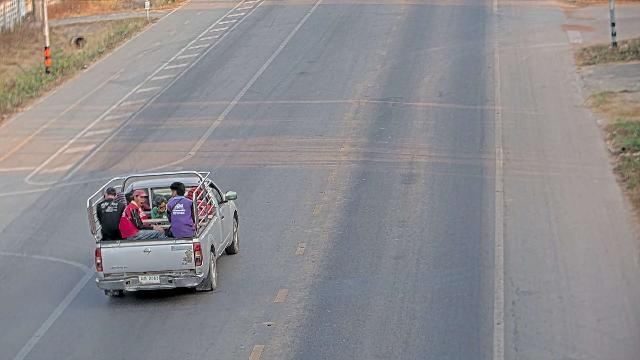pickup-truck: (85, 169, 240, 298)
